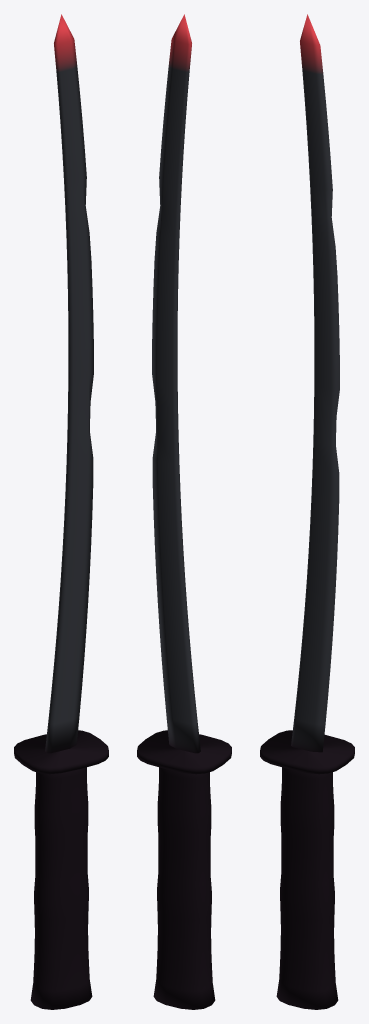
The model's file is uchigatana_v1_colored.glb.
3 views of the same model, side by side, from view 1: azimuth 30°, elevation 25°; view 2: azimuth 150°, elevation 25°; view 3: azimuth 330°, elevation 25° (orthographic).
Visible parts, largest first — view 1: uchigatana_v1; view 2: uchigatana_v1; view 3: uchigatana_v1.
Boxes of the visible parts, x1,y1,x2,y2 form: uchigatana_v1: [14, 14, 108, 1009]; uchigatana_v1: [137, 14, 231, 1009]; uchigatana_v1: [260, 14, 354, 1009].
Size of the model in its own units: 0.084 by 1.02 by 0.07.
